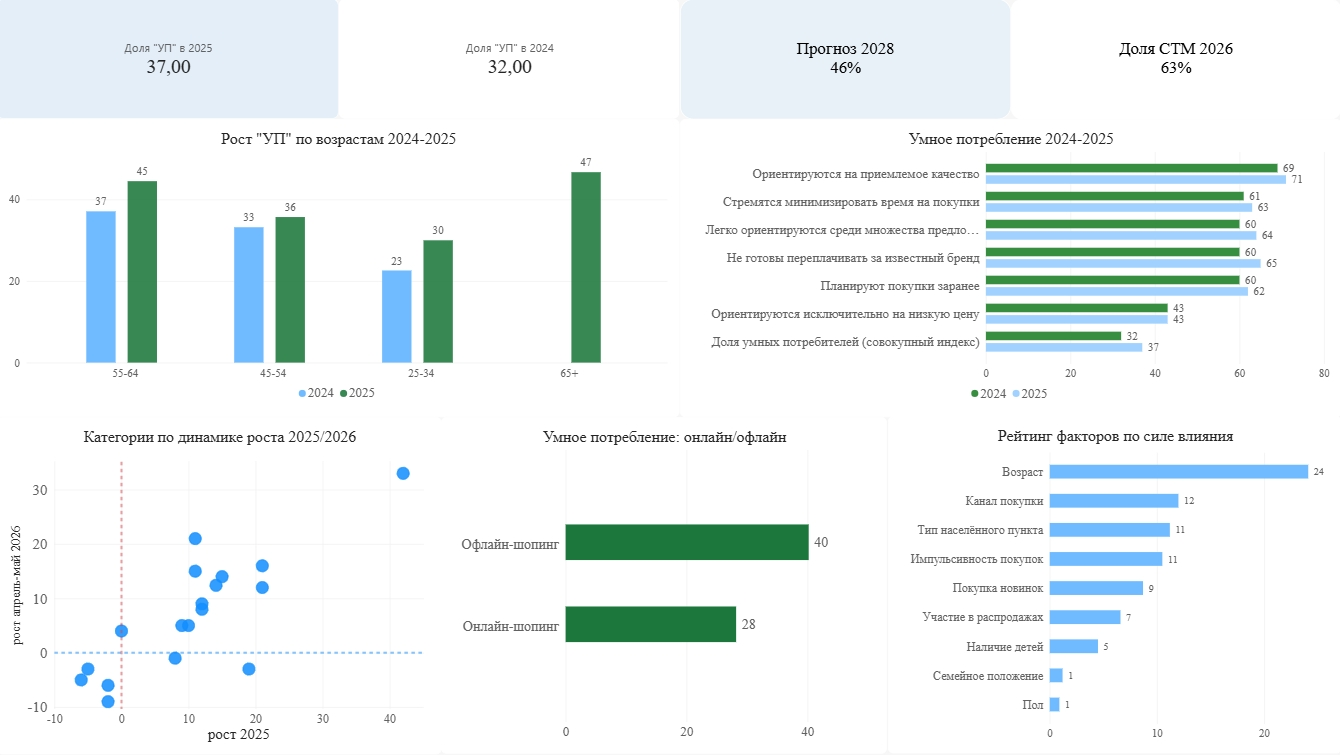

Layout of this report page (visuals, bound fields, positions):
{"tool":"powerbi","page":{"name":"Обзор","canvas":[1920,1080],"ordinal":0},"visuals":[{"type":"cardVisual","fields":{"Data":["Avg(chizhik_index.value_2025)"]},"box":[0,0,488.3,171.7],"z":0},{"type":"cardVisual","title":"Доля \"умных потребителей\" в 2024","fields":{"Data":["Sum(chizhik_index.value_2024)"]},"box":[488.3,0,486.7,171.7],"z":1000},{"type":"barChart","title":"Рейтинг факторов по силе влияния","fields":{"Category":["chizhik_segments.dimension"],"Y":["chizhik_segments.Разброс"]},"box":[1272.3,595.3,648.3,481.7],"z":2000},{"type":"textbox","box":[975,0,473.3,171.7],"z":3000},{"type":"textbox","box":[10,203.5,280,150],"z":4000},{"type":"textbox","box":[1448.3,0,471.7,171.7],"z":5000},{"type":"clusteredBarChart","title":"Умное потребление 2024-2025","fields":{"Category":["chizhik_index.metric"],"Y":["Sum(chizhik_index.value_2024)","Sum(chizhik_index.value_2025)"]},"box":[975,171.7,945,426],"z":6000},{"type":"scatterChart","title":"Категории по динамике роста 2025/2026","fields":{"X":["sberindex_categories.growth_pct_2025"],"Y":["sberindex_categories.growth_pct_apr_may_2026"]},"box":[0,596.6,635,481.7],"z":7000},{"type":"clusteredColumnChart","title":"Рост \"УП\" по возрастам 2024-2025","fields":{"Category":["chizhik_segments.group"],"Series":["chizhik_segments.period"],"Y":["Sum(chizhik_segments.smart_consumption_share_pct)"]},"box":[0,171.1,975,425.7],"z":8000},{"type":"clusteredBarChart","title":"Умное потребление: онлайн/офлайн","fields":{"Category":["chizhik_segments.group"],"Y":["Sum(chizhik_segments.smart_consumption_share_pct)"]},"box":[634.8,596.6,636.9,480.8],"z":9000}]}

Visuals, with their boxes in screenshot pixels (x1, y1, x2, y2), scaled from the page's 1920x1080 canvas onto the 1340x755 screenshot:
cardVisual - Avg(chizhik_index.value_2025): (0, 0, 341, 120)
"Доля "умных потребителей" в 2024" cardVisual: (341, 0, 680, 120)
"Рейтинг факторов по силе влияния" barChart: (888, 416, 1339, 753)
textbox: (680, 0, 1011, 120)
textbox: (7, 142, 202, 247)
textbox: (1011, 0, 1339, 120)
"Умное потребление 2024-2025" clusteredBarChart: (680, 120, 1339, 418)
"Категории по динамике роста 2025/2026" scatterChart: (0, 417, 443, 754)
"Рост "УП" по возрастам 2024-2025" clusteredColumnChart: (0, 120, 680, 417)
"Умное потребление: онлайн/офлайн" clusteredBarChart: (443, 417, 888, 753)
